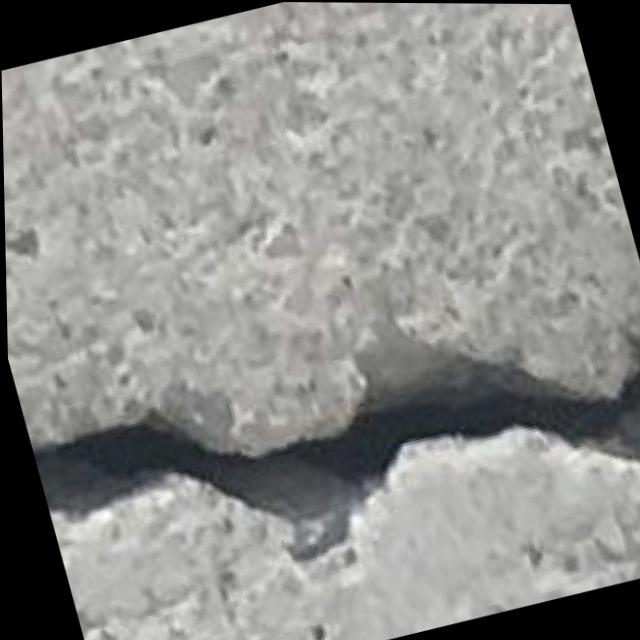Crack: (20, 257, 640, 620)
